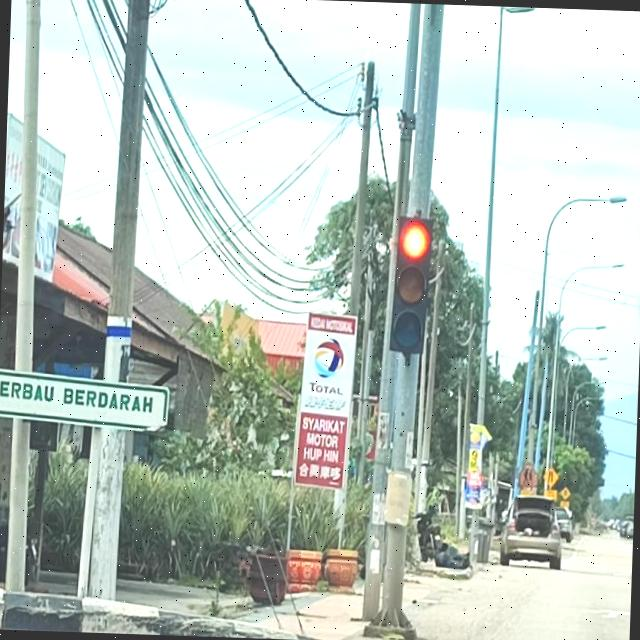red_light: (388, 216, 434, 352)
